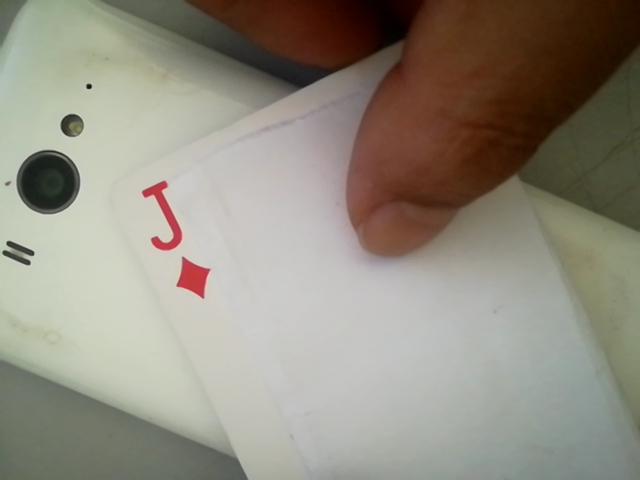fk j: (131, 173, 212, 306)
